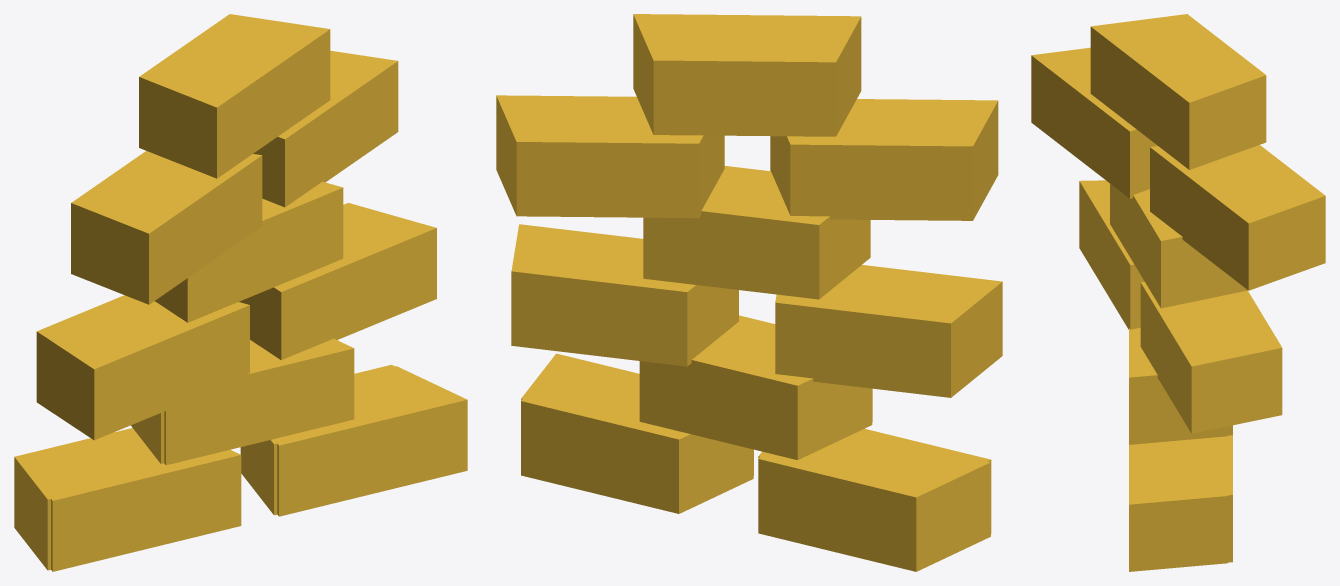
The model's file is Ingot_Gold.fbx.
3 views of the same model, side by side, from view 1: azimuth 30°, elevation 25°; view 2: azimuth 150°, elevation 25°; view 3: azimuth 270°, elevation 25° (orthographic). The views are drawn at different scales.
Visible parts, largest first — view 1: Ingot_Gold__Stack, Ingot_Gold; view 2: Ingot_Gold__Stack, Ingot_Gold; view 3: Ingot_Gold__Stack, Ingot_Gold.
Part boxes in pixels (x1,y1,x2,y2): Ingot_Gold__Stack: (14,14,447,570); Ingot_Gold: (19,338,467,571); Ingot_Gold__Stack: (496,14,1002,571); Ingot_Gold: (521,315,991,533); Ingot_Gold__Stack: (1031,14,1325,562); Ingot_Gold: (1129,328,1227,571).
Bounding box in the file's own units: 0.1113 × 0.1125 × 0.0714.
